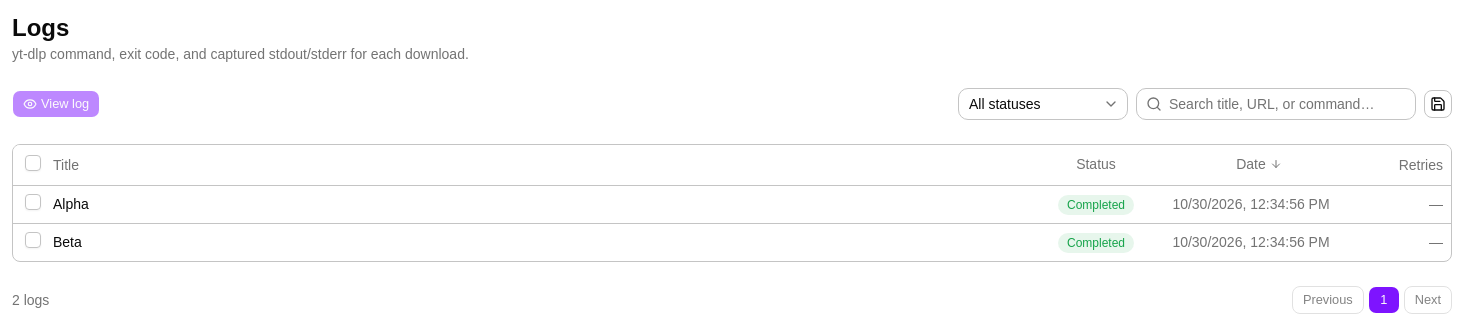
Test: LogsPage table › has a clear button for the search
Expected: the text "Alpha" is shown, [53,196,89,212]
In the field with placeholder "Search title, URL, or command…": (1276, 104) [1136,88,1416,120], type "alp"
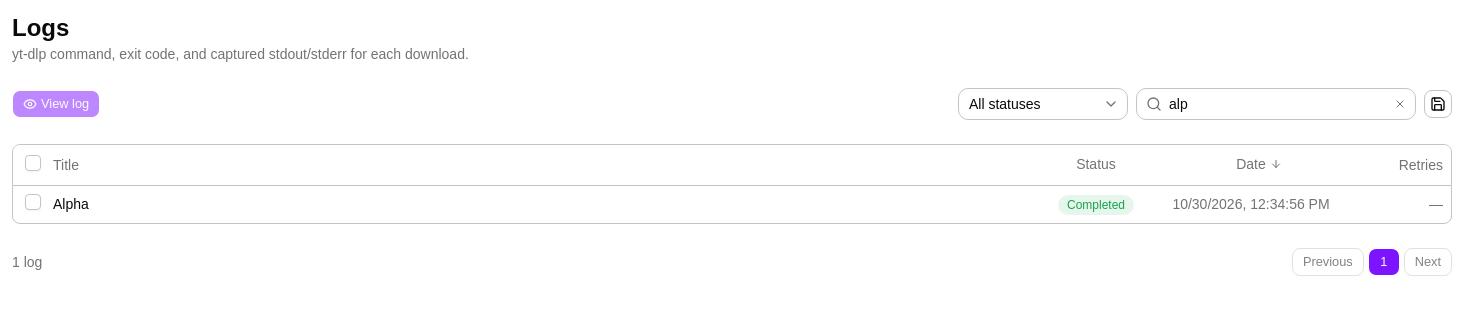
Expected: the text "Beta" is gone
Click the button named "clear": click(1400, 104) [1388,92,1412,116]
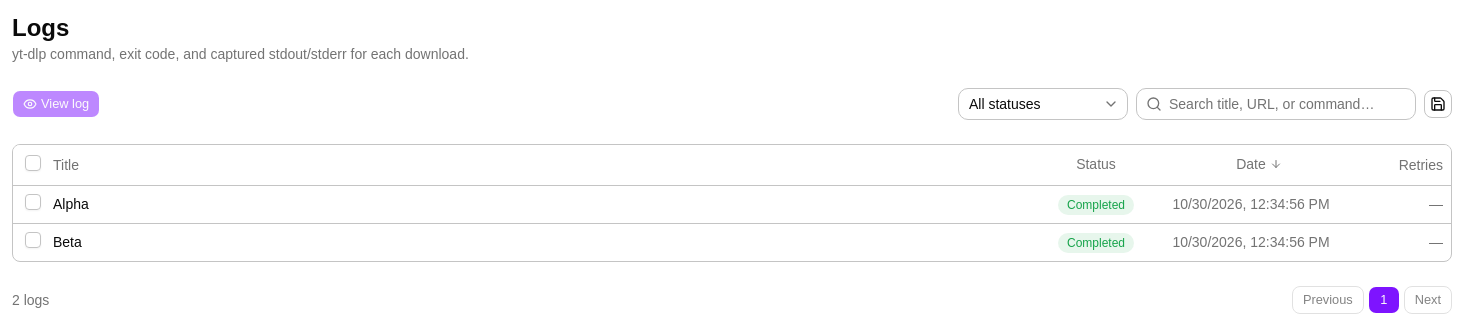
Expected: the text "Beta" is shown, [53,234,82,250]
Expected: the field with placeholder "Search title, URL, or command…" is empty, [1136,88,1416,120]
